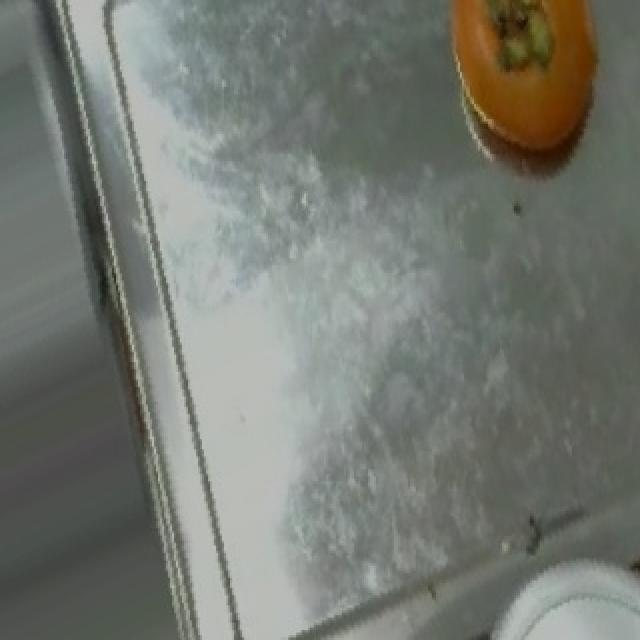Fruit: (428, 0, 632, 176), (270, 570, 464, 638), (472, 578, 640, 640)
